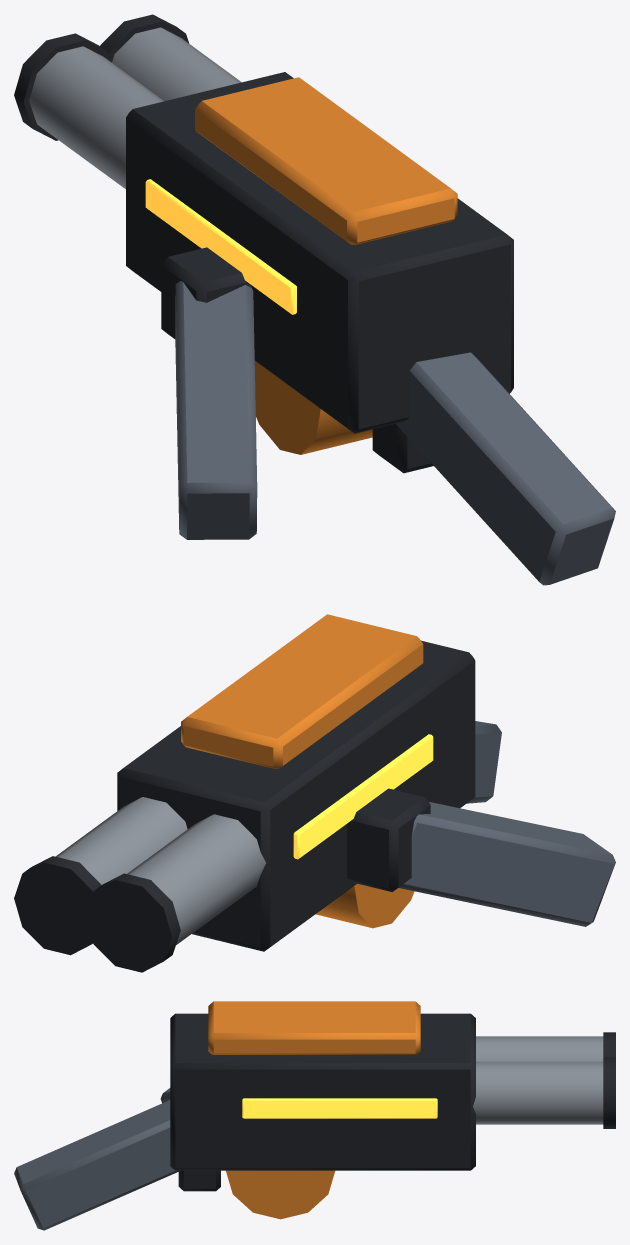
The model's file is weapon_kodiak.glb.
3 renders of one model, top to bottom at view 1: azimuth 30°, elevation 25°; view 2: azimuth 150°, elevation 25°; view 3: azimuth 270°, elevation 25°, orthographic. The views are drawn at different scales.
Parts seen in each view (by area): view 1: weapon; view 2: weapon; view 3: weapon.
Part boxes in pixels (left/top/right/bottom): weapon: left=14, top=14, right=615, bottom=585; weapon: left=14, top=614, right=615, bottom=972; weapon: left=14, top=1001, right=615, bottom=1230.
Bounding box in the file's own units: 0.5994 × 0.5025 × 1.42.
